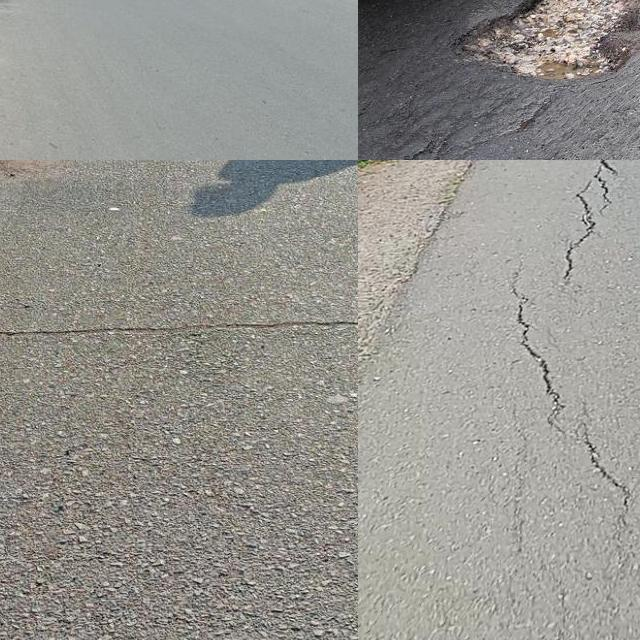Lubang: (460, 0, 640, 83)
Melintang: (0, 309, 358, 348)
Memanjang: (499, 273, 640, 516), (559, 160, 619, 290)
